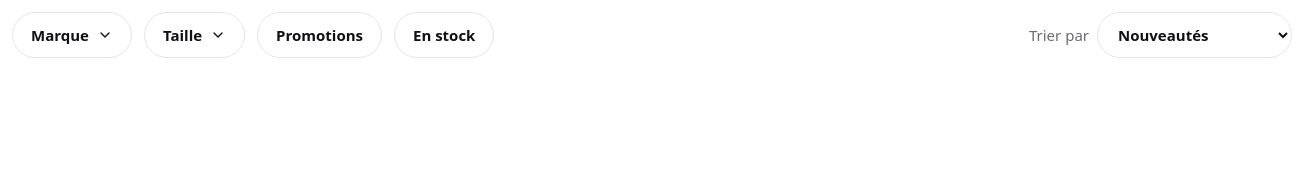
Test: FiltresBarre — barre › ouvre le panneau des marques et le referme
The image size is (1304, 177).
What coordinates should you click on to do the following:
click the button with test id "bouton-marques"
I would click on:
 (72, 35)
Its box is [12,12,132,58].
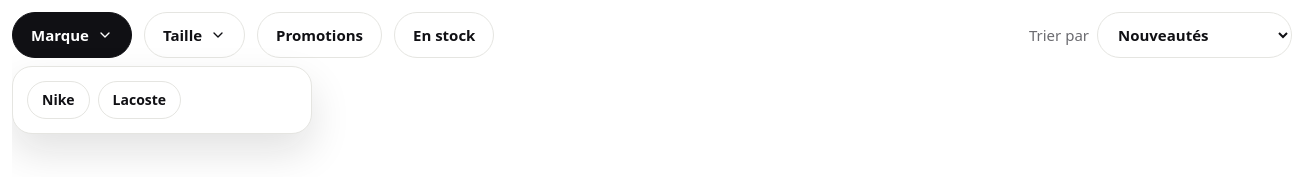
Result: the element with test id "panneau-marques" is shown at [12,66,312,134]
Result: the button with test id "filtre-marque-nike" is shown at [27,81,90,119]
What coordinates should you click on to do the following:
click the button with test id "bouton-marques"
I would click on:
 (72, 35)
Its box is [12,12,132,58].
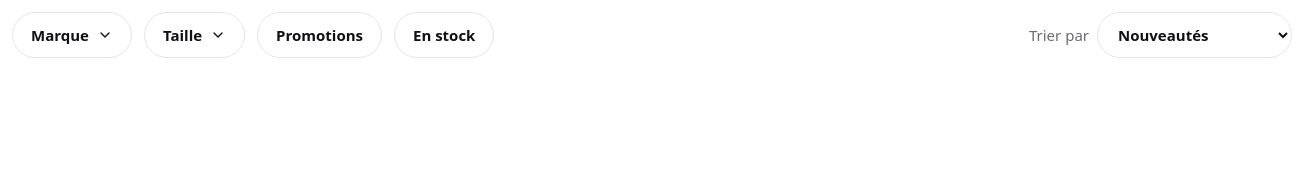
Result: the element with test id "panneau-marques" is gone
